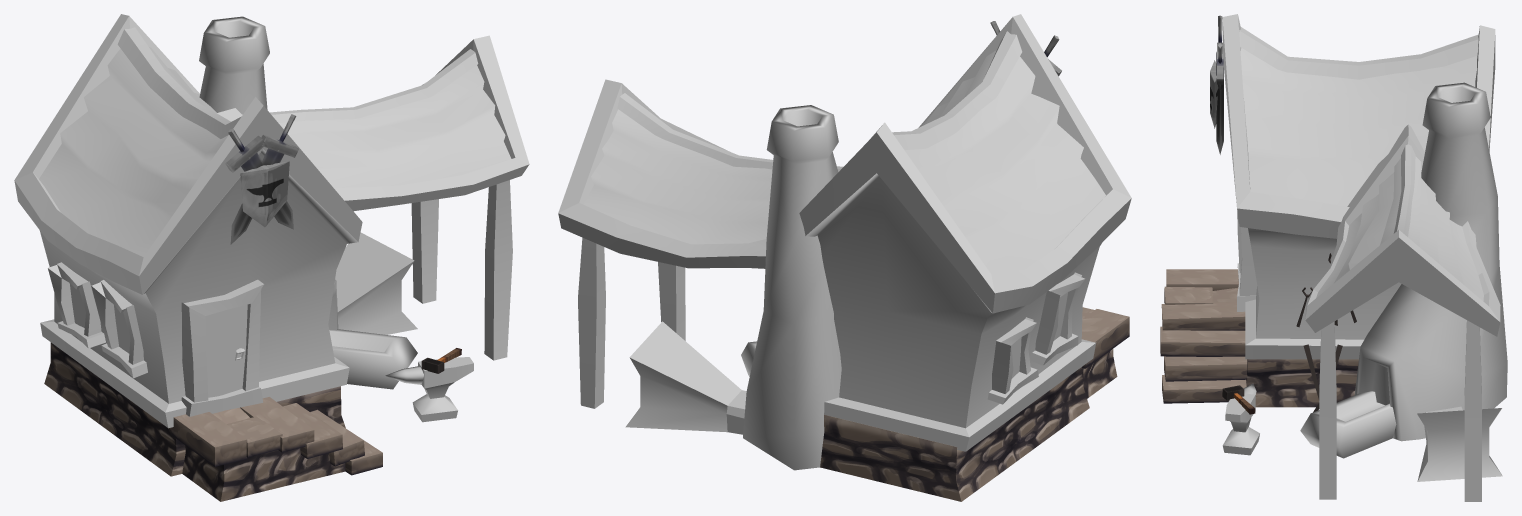
File: Blacksmith_MDL_01.fbx
3 renders of one model, left to right at view 1: azimuth 30°, elevation 25°; view 2: azimuth 150°, elevation 25°; view 3: azimuth 270°, elevation 25°, orthographic. The views are drawn at different scales.
Visible parts, largest first — view 1: Blacksmith_MDL; view 2: Blacksmith_MDL; view 3: Blacksmith_MDL.
Boxes of the visible parts, x1,y1,x2,y2 form: Blacksmith_MDL: (14, 14, 529, 501); Blacksmith_MDL: (558, 14, 1131, 501); Blacksmith_MDL: (1160, 14, 1507, 501).
Bounding box in the file's own units: 668 × 535 × 482.
